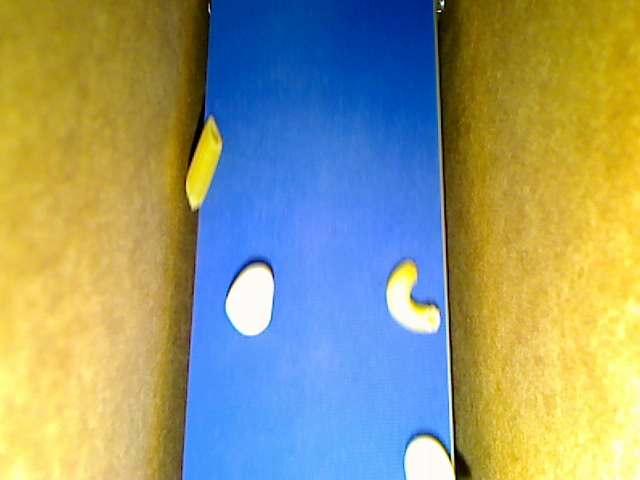elbow: (385, 259, 441, 333)
penne: (183, 115, 222, 212)
